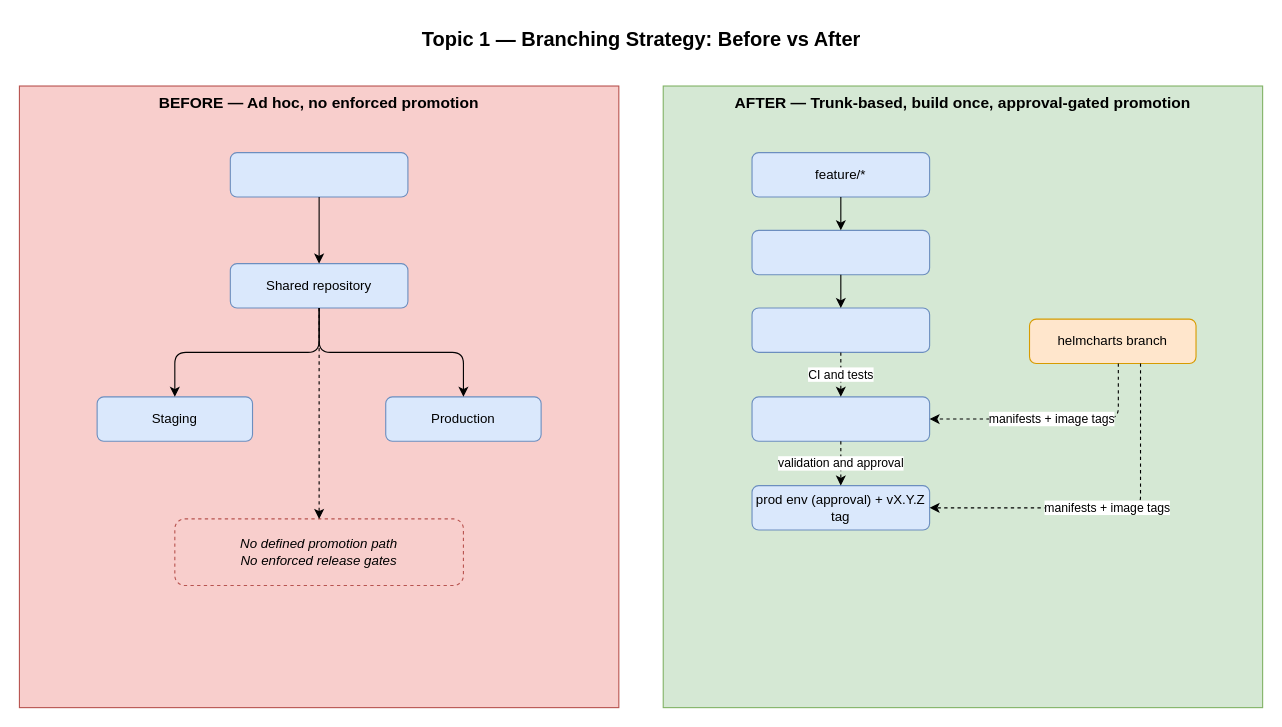
The diagram is 1282 pixels wide and 727 high, and some of its shapes have lost their labels. Each missing label, with the centre of its shape:
"Developer work" goes at [318,174].
"main" goes at [840,329].
"Pull request" goes at [840,252].
"staging env (approval)" goes at [840,418].
